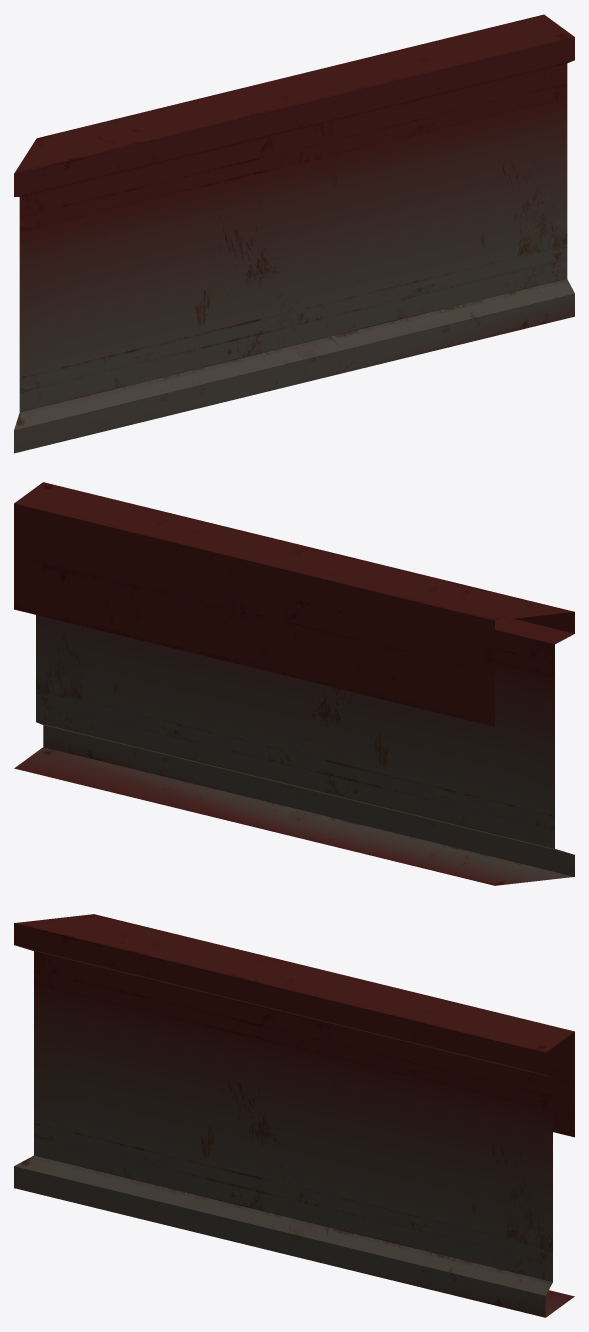
Rendered from Cornice_Metal_L.gltf.
The picture shows the model from 3 angles, top to bottom: view 1: azimuth 30°, elevation 25°; view 2: azimuth 150°, elevation 25°; view 3: azimuth 330°, elevation 25°; orthographic projection. The views are drawn at different scales.
Visible parts, largest first — view 1: Cornice_Metal_L; view 2: Cornice_Metal_L; view 3: Cornice_Metal_L.
Boxes of the visible parts, x1=… form: Cornice_Metal_L: x1=14, y1=14, x2=574, y2=453; Cornice_Metal_L: x1=14, y1=482, x2=574, y2=885; Cornice_Metal_L: x1=14, y1=914, x2=574, y2=1317.
Bounding box in the file's own units: 2.1 × 1 × 0.2.
1 material, 1 textured.
